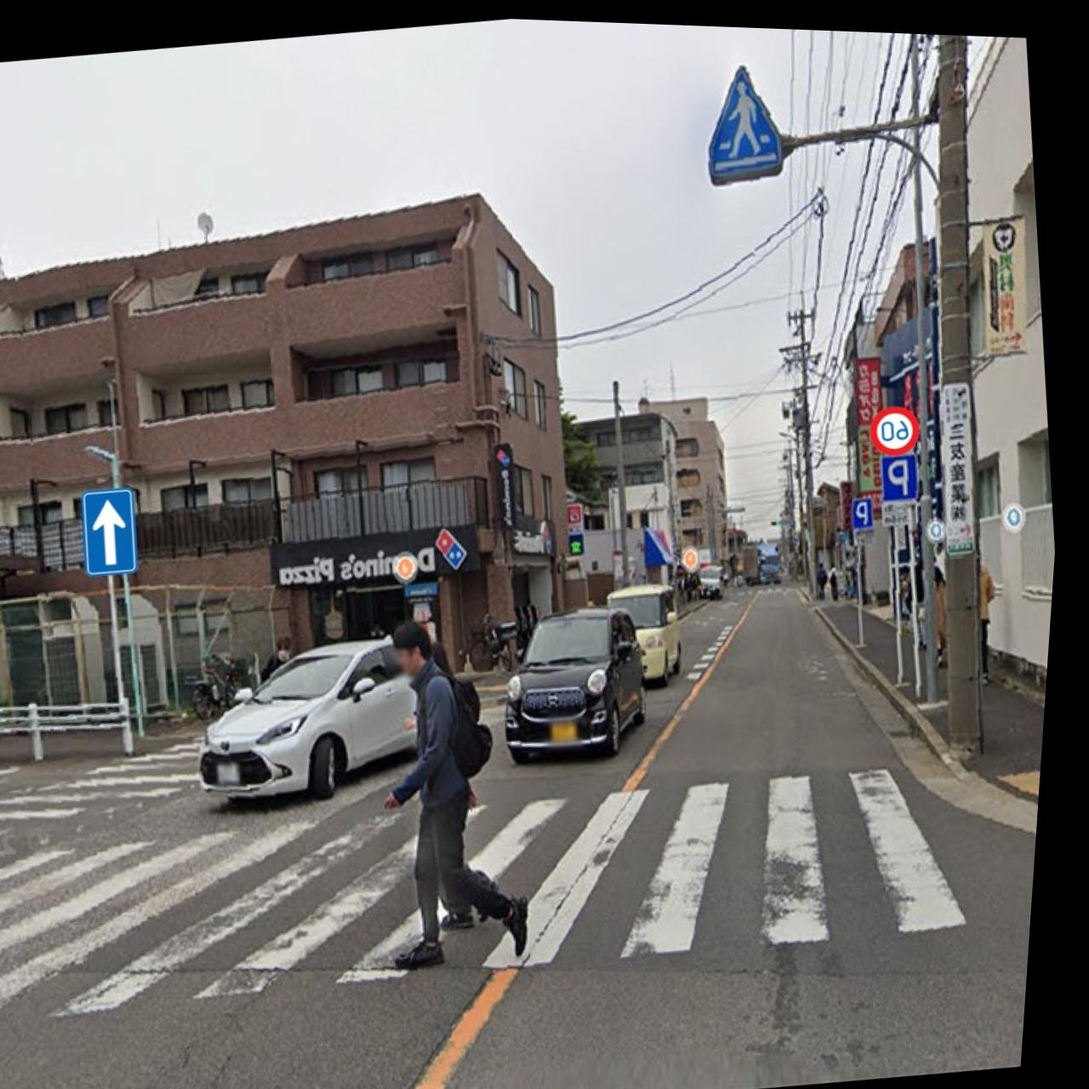cone: (391, 98, 1089, 237)
